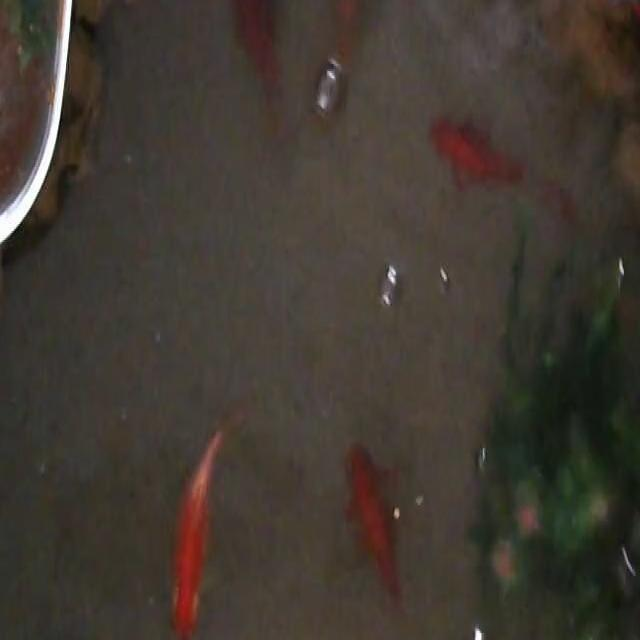fish: (169, 405, 241, 640), (343, 440, 405, 608), (222, 0, 282, 123), (430, 116, 528, 191), (313, 0, 366, 123)
